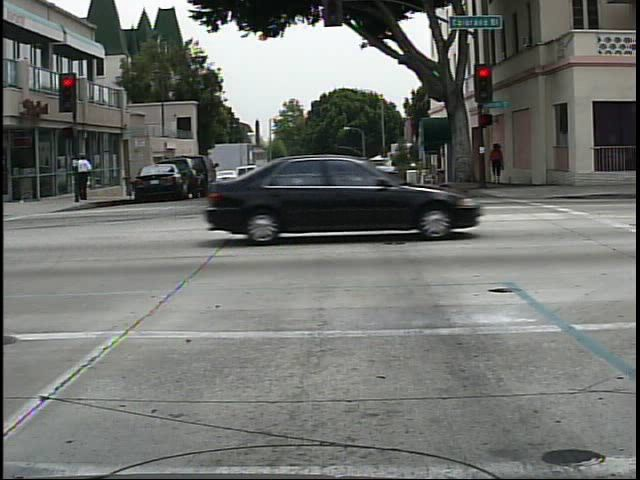person: (488, 137, 509, 188), (79, 147, 98, 203)
